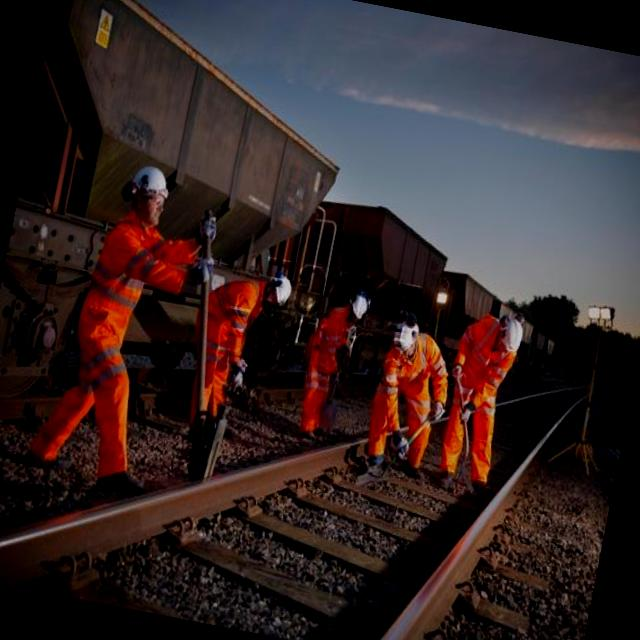helmet: (120, 158, 180, 209), (264, 270, 298, 312), (500, 319, 528, 353), (346, 291, 374, 322), (390, 321, 414, 355)
vest: (99, 222, 167, 307), (226, 275, 268, 333), (452, 344, 504, 388), (402, 341, 438, 393), (321, 317, 348, 356)
